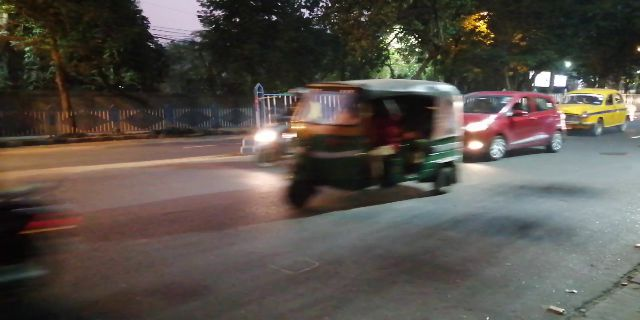Autorickshaw: (278, 75, 468, 207)
Car: (473, 84, 568, 164), (569, 88, 632, 137)
